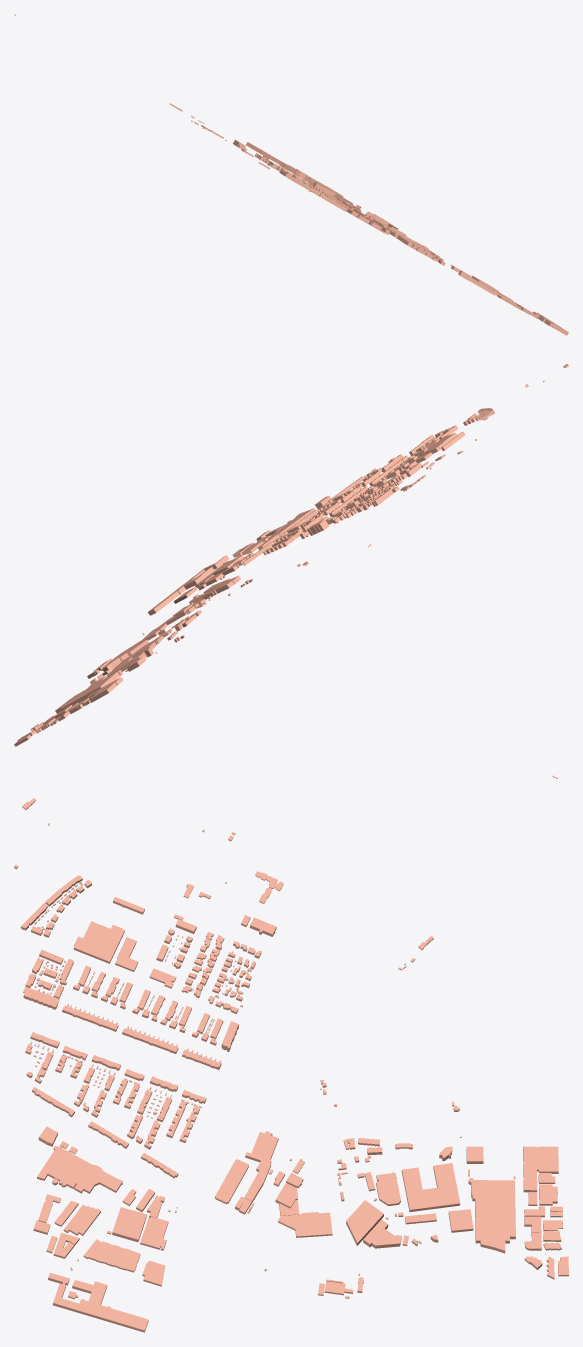
3 views of the same model, one above another, from view 1: azimuth 30°, elevation 25°; view 2: azimuth 150°, elevation 25°; view 3: azimuth 270°, elevation 25° (orthographic). The views are drawn at different scales.
Size of the model in its own units: 1076 by 770 by 1144.
